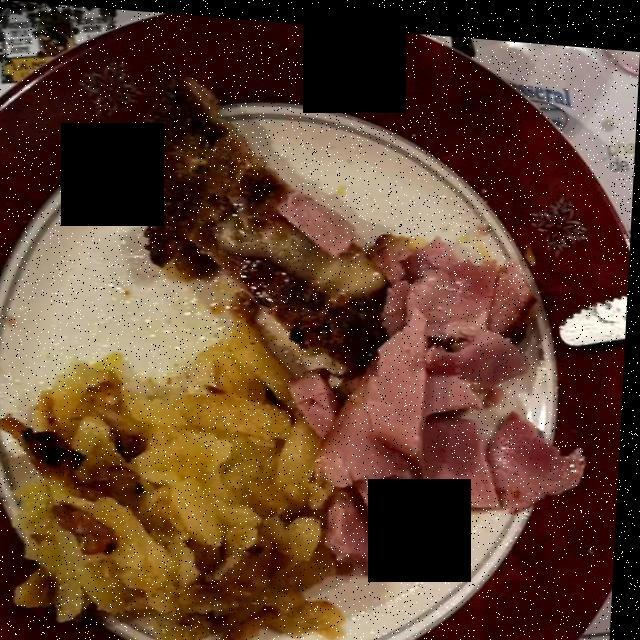beef: (133, 62, 408, 349)
meat: (322, 228, 584, 554)
rosti: (17, 301, 355, 639)
